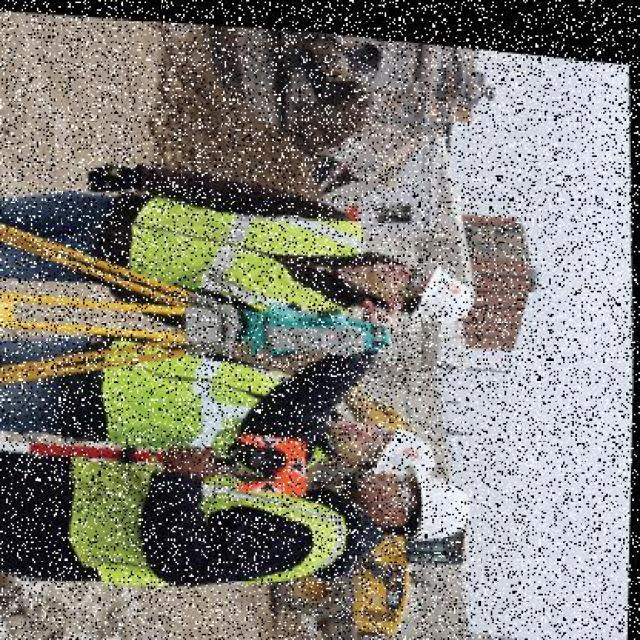helmet: (405, 242, 487, 328), (402, 462, 472, 540), (375, 411, 449, 475)
vest: (78, 449, 352, 597), (114, 189, 372, 321), (89, 337, 325, 456)
